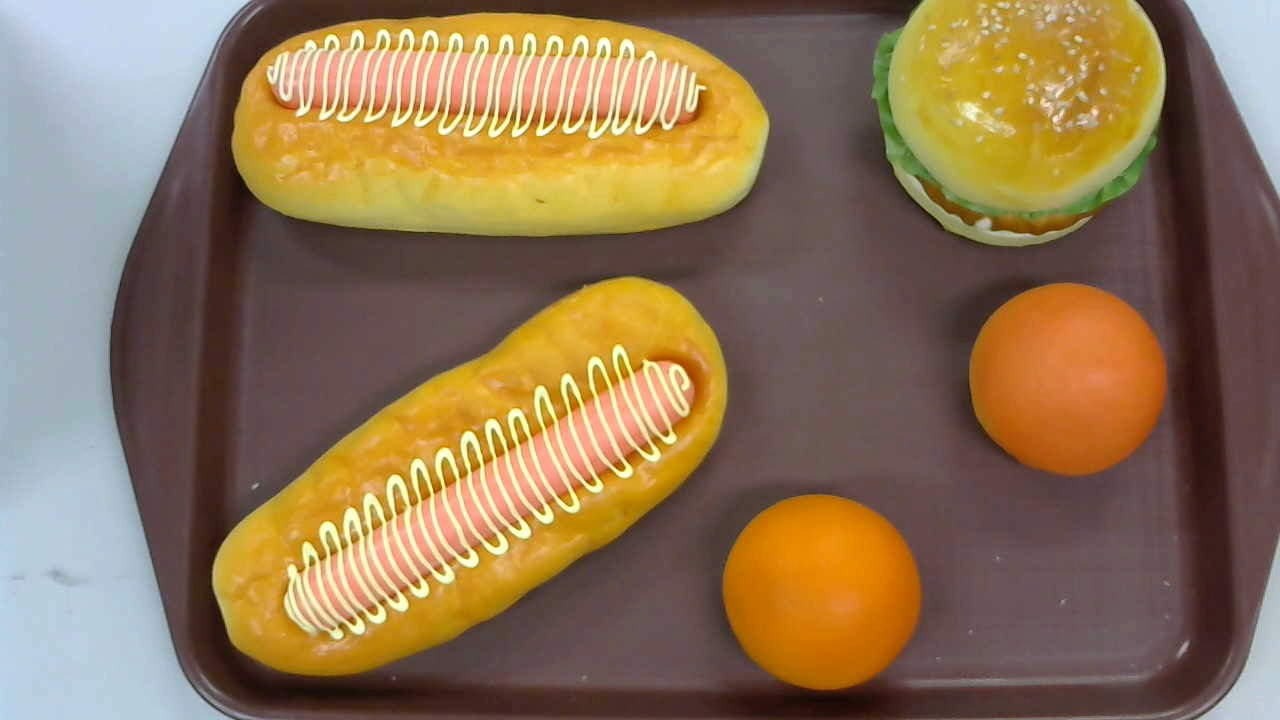bun: (721, 494, 921, 691), (969, 282, 1166, 477)
hamburger: (872, 1, 1167, 247)
hot dog: (211, 275, 728, 677), (231, 11, 771, 237)
